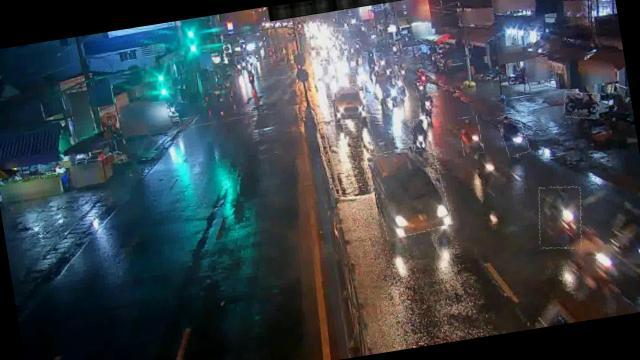Bike: (534, 182, 588, 252), (498, 112, 528, 156), (562, 87, 602, 120), (458, 115, 484, 156), (410, 117, 430, 151), (378, 90, 396, 115), (392, 72, 408, 99), (418, 94, 436, 115), (415, 78, 429, 98), (388, 80, 402, 98)
Car: (368, 141, 451, 239), (330, 80, 368, 124)
